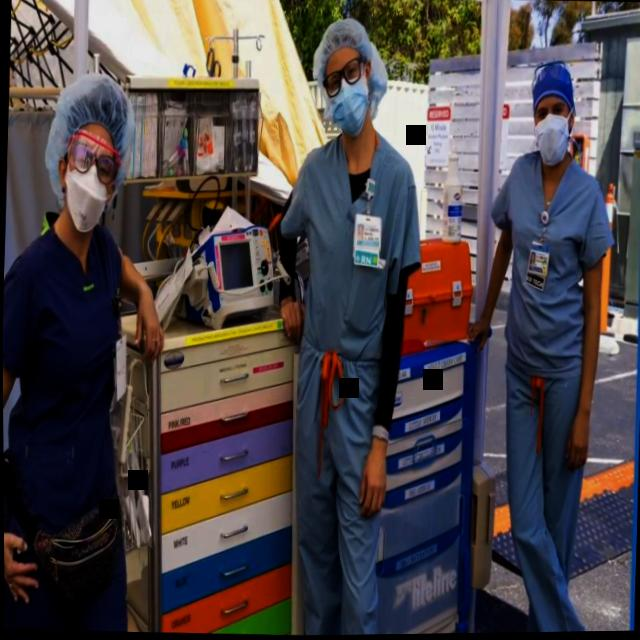Mask: (60, 120, 118, 240), (321, 42, 374, 142), (531, 88, 572, 171)
